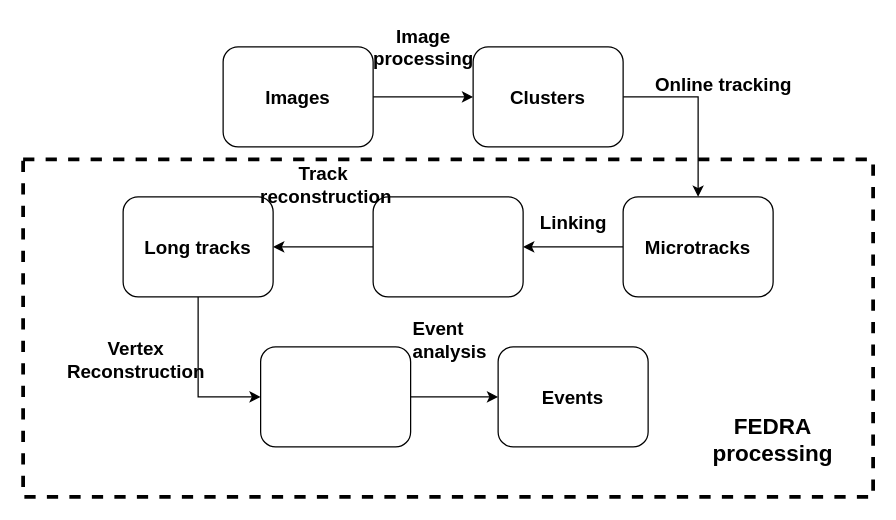
Image size: 896x520. Some labels were removed from this diagram. Each missing label, with the centre of its shape:
"Base-tracks" belongs at (x=447, y=246).
"Vertices" belongs at (x=335, y=396).
